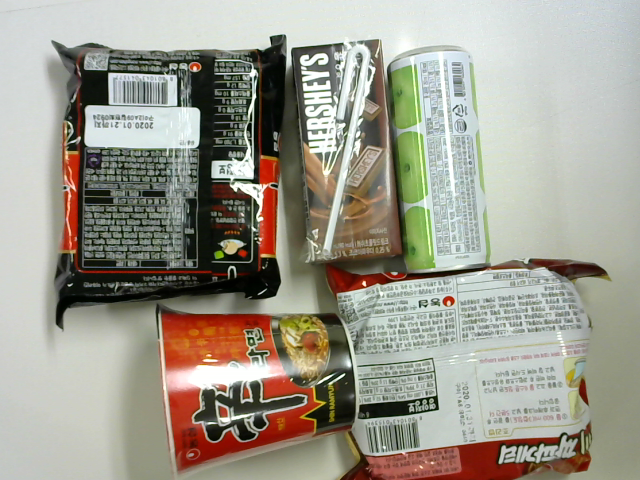Demisoda_Apple_Can_250ml: (387, 42, 493, 278)
Hush_Choco_Drink: (289, 44, 395, 270)
Sichuan_Chapaghetti: (335, 262, 605, 480)
Sinramen_Black: (51, 34, 295, 324)
Sinramen_small: (149, 310, 351, 476)
